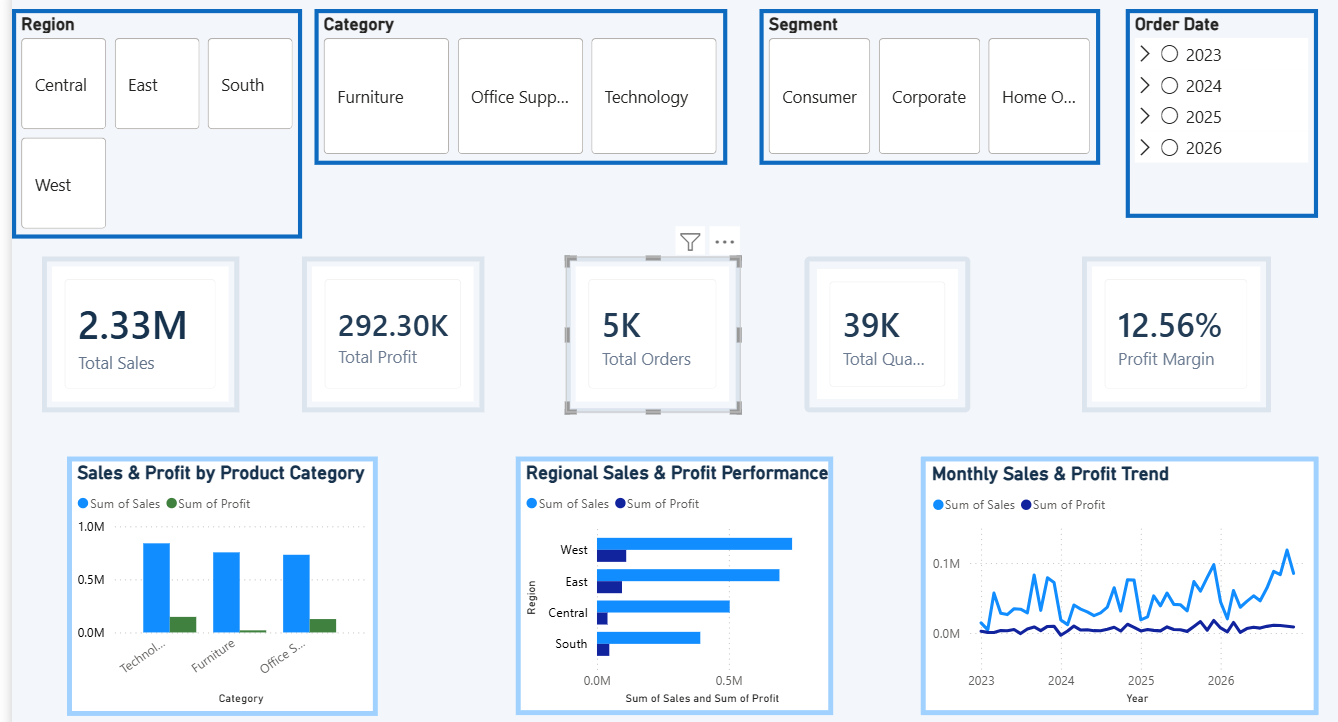

What the dashboard file says about the page in this screenshot:
{"tool":"powerbi","page":{"name":"Page 1","canvas":[1280,720],"ordinal":0},"visuals":[{"type":"clusteredColumnChart","title":"Sales & Profit by Product Category","fields":{"Category":["superstore_cleaned.Category"],"Y":["Sum(superstore_cleaned.Sales)","Sum(superstore_cleaned.Profit)"]},"box":[52.5,451.2,300,250],"z":0},{"type":"clusteredBarChart","title":"Regional Sales & Profit Performance","fields":{"Category":["superstore_cleaned.Region"],"Y":["Sum(superstore_cleaned.Sales)","Sum(superstore_cleaned.Profit)"]},"box":[537.5,451.2,307.5,250],"z":1000},{"type":"cardVisual","fields":{"Data":["superstore_cleaned.Total Sales"]},"box":[28.8,258.8,190,150],"z":2000},{"type":"cardVisual","fields":{"Data":["superstore_cleaned.Total Profit"]},"box":[280,258.8,176.2,150],"z":3000},{"type":"cardVisual","fields":{"Data":["superstore_cleaned.Total Orders"]},"box":[535,258.8,156.2,150],"z":4000},{"type":"cardVisual","fields":{"Data":["superstore_cleaned.Total Quantity"]},"box":[765,258.8,160,150],"z":5000},{"type":"cardVisual","fields":{"Data":["superstore_cleaned.Profit Margin"]},"box":[1032.5,258.8,182.5,150],"z":6000},{"type":"lineChart","title":"Monthly Sales & Profit Trend","fields":{"Y":["Sum(superstore_cleaned.Sales)","Sum(superstore_cleaned.Profit)"],"Category":["superstore_cleaned.Year Month"]},"box":[986.2,451.2,275,250],"z":7000},{"type":"advancedSlicerVisual","fields":{"Values":["superstore_cleaned.Region"]},"box":[0,18.8,280,221.2],"z":8000},{"type":"advancedSlicerVisual","fields":{"Values":["superstore_cleaned.Category"]},"box":[292.5,18.8,398.8,150],"z":9000},{"type":"advancedSlicerVisual","fields":{"Values":["superstore_cleaned.Segment"]},"box":[721.2,18.8,328.8,150],"z":10000},{"type":"listSlicer","title":"Order Date","fields":{"Values":["superstore_cleaned.Order Date.Variation.Date Hierarchy.Year","superstore_cleaned.Order Date.Variation.Date Hierarchy.Quarter","superstore_cleaned.Order Date.Variation.Date Hierarchy.Month","superstore_cleaned.Order Date.Variation.Date Hierarchy.Day"]},"box":[1093.8,18.8,186.2,202.5],"z":11000}]}

Visuals, with their boxes in screenshot pixels (x1, y1, x2, y2):
"Sales & Profit by Product Category" clusteredColumnChart: x1=68, y1=448, x2=375, y2=704
"Regional Sales & Profit Performance" clusteredBarChart: x1=564, y1=448, x2=879, y2=704
cardVisual - superstore_cleaned.Total Sales: x1=43, y1=251, x2=238, y2=405
cardVisual - superstore_cleaned.Total Profit: x1=301, y1=251, x2=481, y2=405
cardVisual - superstore_cleaned.Total Orders: x1=562, y1=251, x2=722, y2=405
cardVisual - superstore_cleaned.Total Quantity: x1=797, y1=251, x2=961, y2=405
cardVisual - superstore_cleaned.Profit Margin: x1=1071, y1=251, x2=1258, y2=405
"Monthly Sales & Profit Trend" lineChart: x1=1024, y1=448, x2=1306, y2=704
advancedSlicerVisual - superstore_cleaned.Region: x1=14, y1=5, x2=301, y2=232
advancedSlicerVisual - superstore_cleaned.Category: x1=314, y1=5, x2=722, y2=159
advancedSlicerVisual - superstore_cleaned.Segment: x1=753, y1=5, x2=1089, y2=159
"Order Date" listSlicer: x1=1134, y1=5, x2=1325, y2=213
